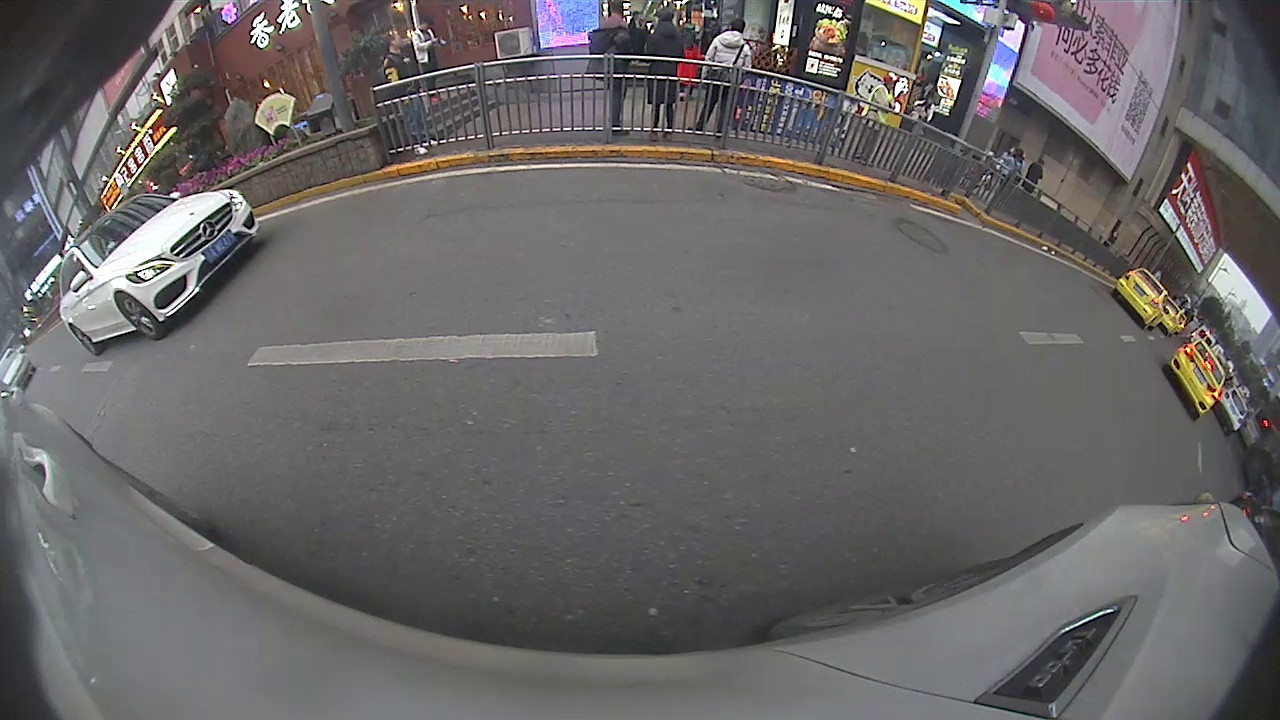car: (58, 192, 263, 356)
front: (117, 293, 161, 341)
person: (369, 29, 432, 158), (689, 15, 755, 137), (584, 2, 637, 134), (643, 7, 685, 140), (1163, 340, 1230, 420), (1111, 264, 1171, 331)
rear: (67, 324, 99, 356)
